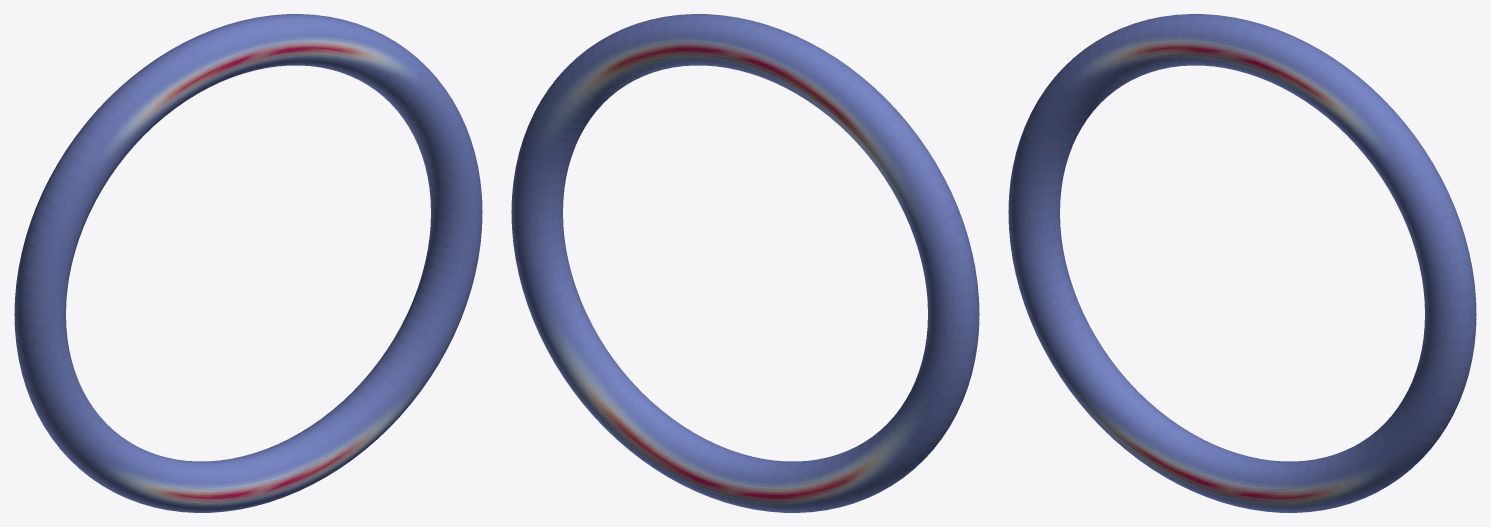
3 renders of one model, left to right at view 1: azimuth 30°, elevation 25°; view 2: azimuth 150°, elevation 25°; view 3: azimuth 330°, elevation 25°, orthographic.
Parts seen in each view (by area): view 1: world; view 2: world; view 3: world.
Boxes of the visible parts, bbox=[...] form: world: bbox=[14, 14, 482, 512]; world: bbox=[511, 14, 979, 512]; world: bbox=[1008, 14, 1476, 512].
Size of the model in its own units: 20.67 by 20.67 by 2.
